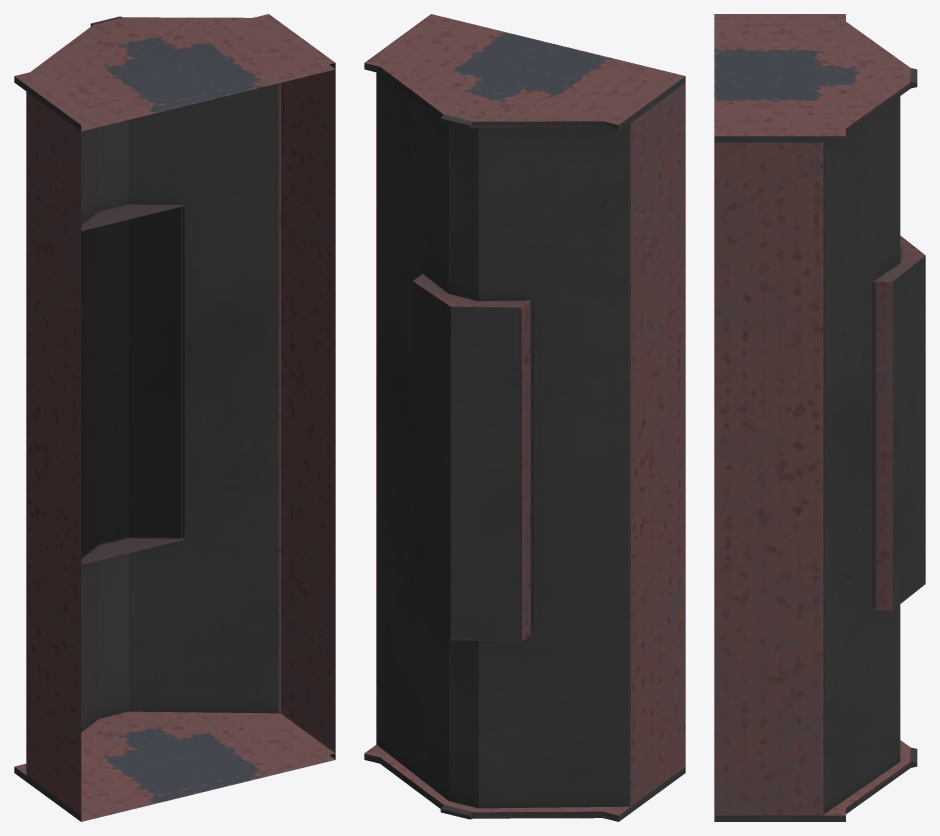
File: house_short.fbx
3 renders of one model, left to right at view 1: azimuth 30°, elevation 25°; view 2: azimuth 150°, elevation 25°; view 3: azimuth 270°, elevation 25°, orthographic.
Parts seen in each view (by area): view 1: Box022; view 2: Box022; view 3: Box022.
Boxes of the visible parts, x1,y1,x2,y2 form: Box022: (14,14,335,821); Box022: (364,14,685,821); Box022: (714,14,925,821).
Bounding box in the file's own units: 443 × 1160 × 324.
